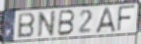2: (78, 9, 95, 35)
A: (95, 6, 117, 34)
B: (56, 9, 76, 37), (17, 12, 36, 39)
F: (116, 4, 137, 33)
N: (37, 10, 57, 38)
